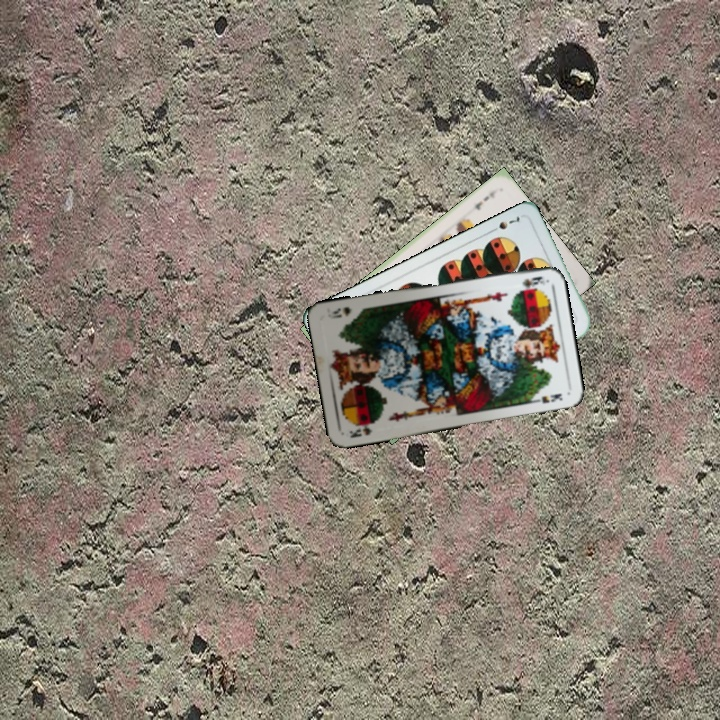E7: (470, 186, 500, 213)
S7: (486, 211, 522, 235)
SK: (345, 418, 378, 440), (518, 272, 549, 290)
